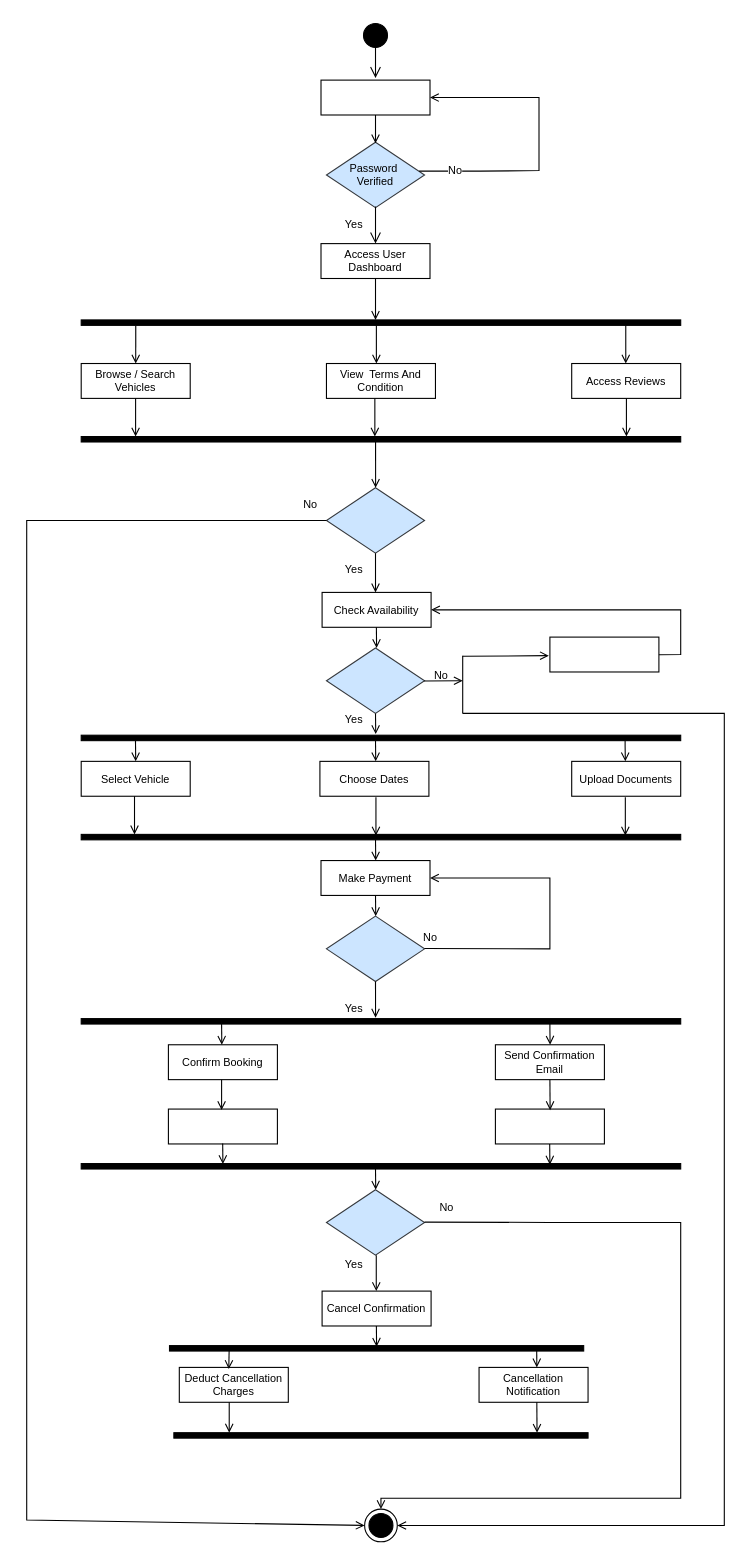
This 752x1561 diagram has some shape labels left out. Each missing label, with the box of its shape:
Cancel Booking?: (325, 1189, 425, 1255)
Choose Other Vehicle/ Dates: (549, 636, 659, 672)
Confirm Notifiaction: (494, 1108, 604, 1144)
Is Available?: (325, 647, 425, 713)
Leave Review: (167, 1108, 277, 1144)
Payment Successful?: (325, 915, 425, 982)
Ready to Book?: (325, 487, 425, 553)
User Logs IN: (320, 79, 430, 115)
